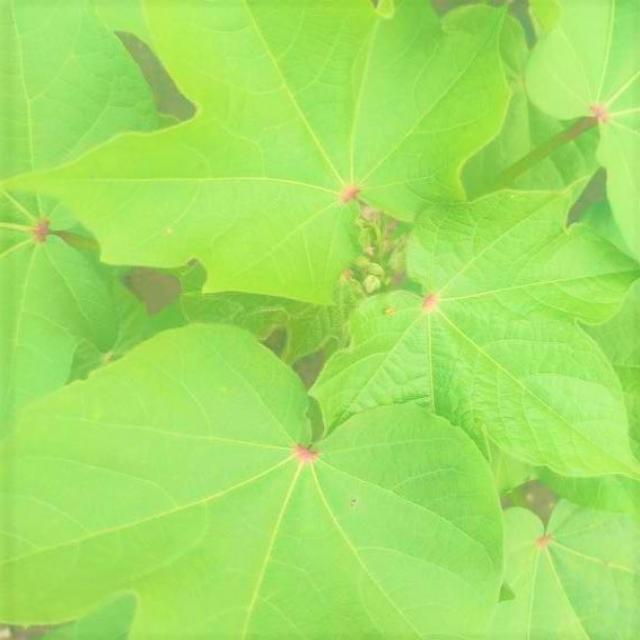Healthy Leaf: (39, 29, 610, 586)
